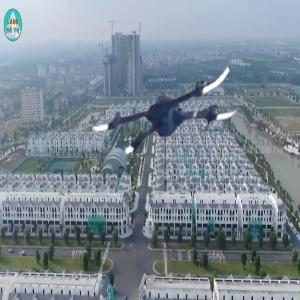drone: (92, 27, 241, 176)
